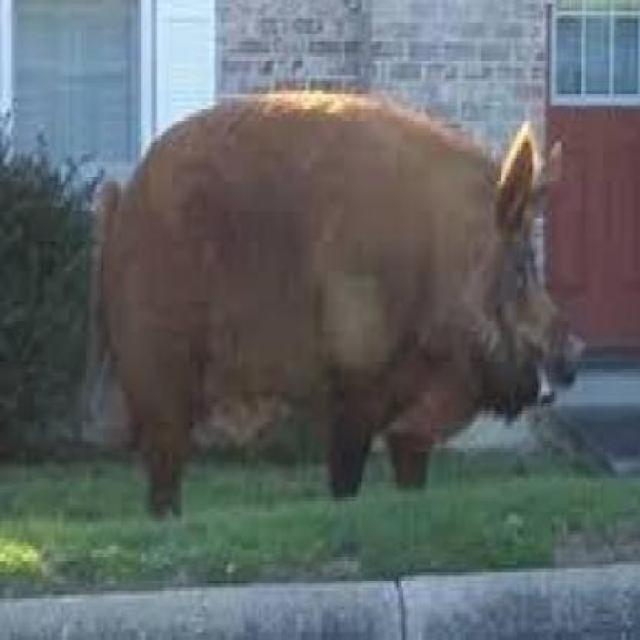wildboar: (74, 80, 594, 552)
